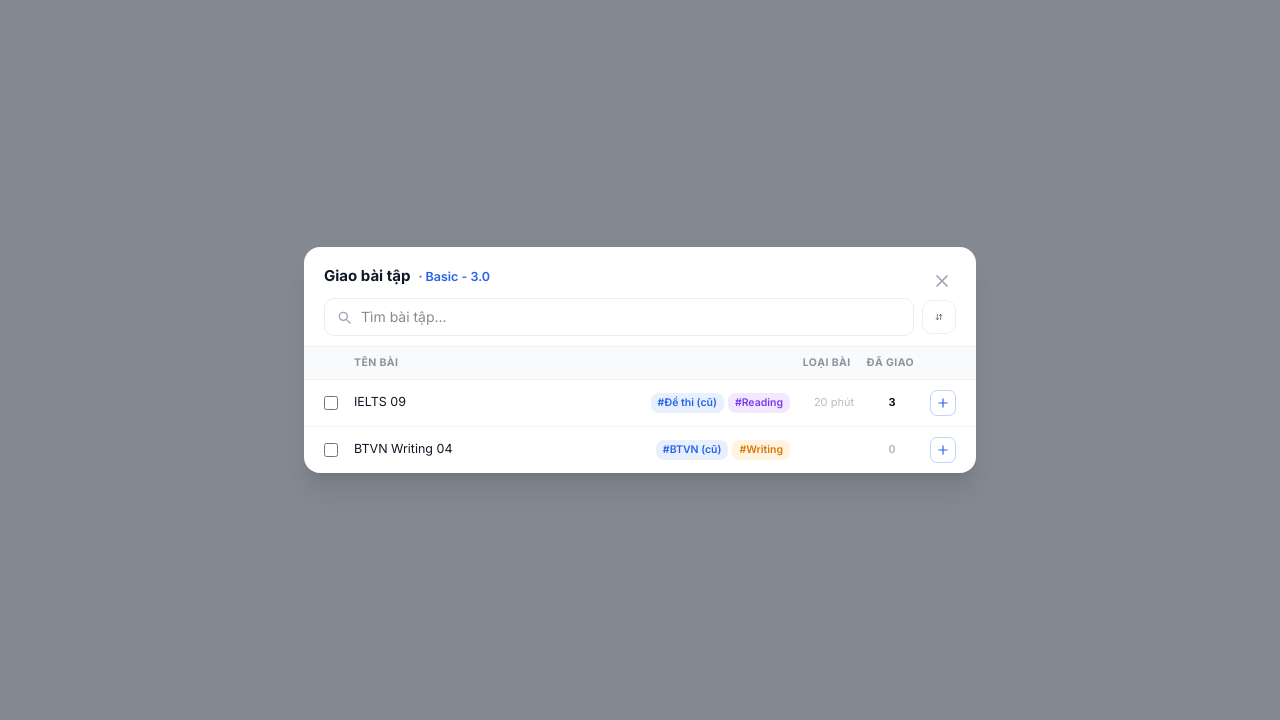
Scenario: QuickAssignDialog › assigns every ticked set at once, then clears the ticks
Expected: the element with test id "quick-assign-row-s1" is shown, [304,380,976,427]
Click the checkbox named "Chọn IELTS 09".
click(331, 403)  # box [324,396,338,410]
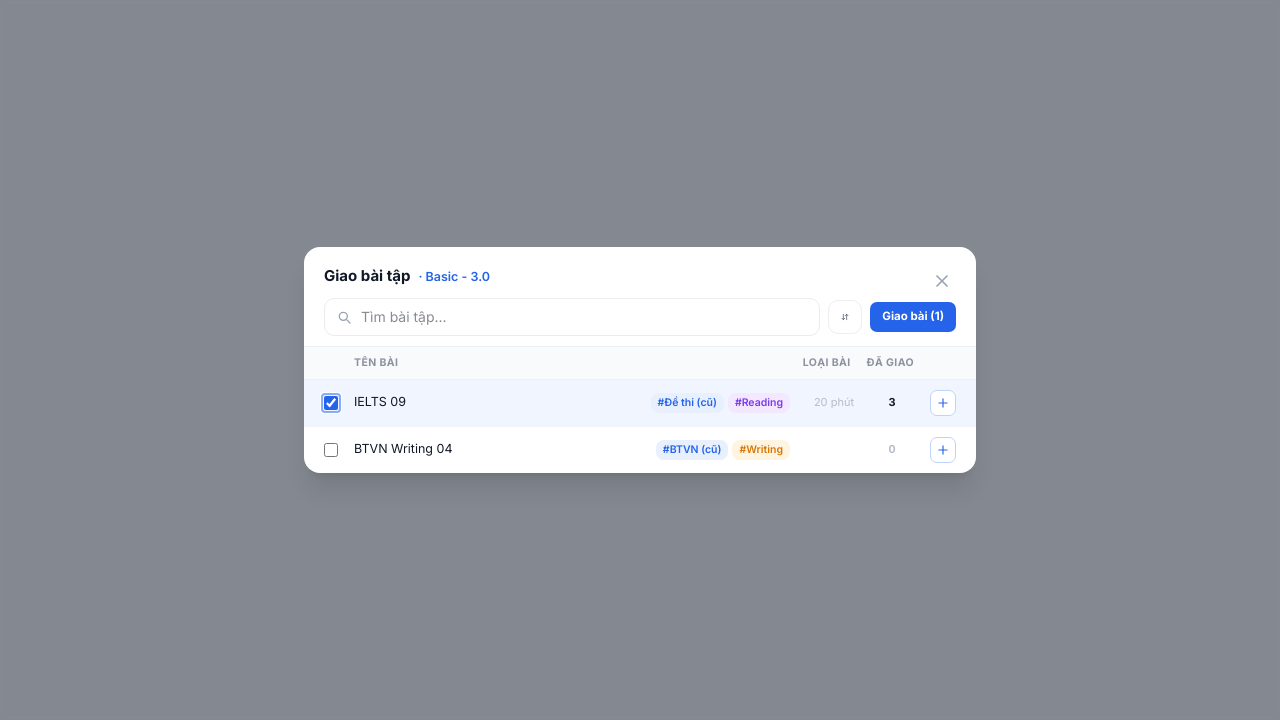
Click the checkbox named "Chọn BTVN Writing 04".
click(331, 450)  # box [324,443,338,457]
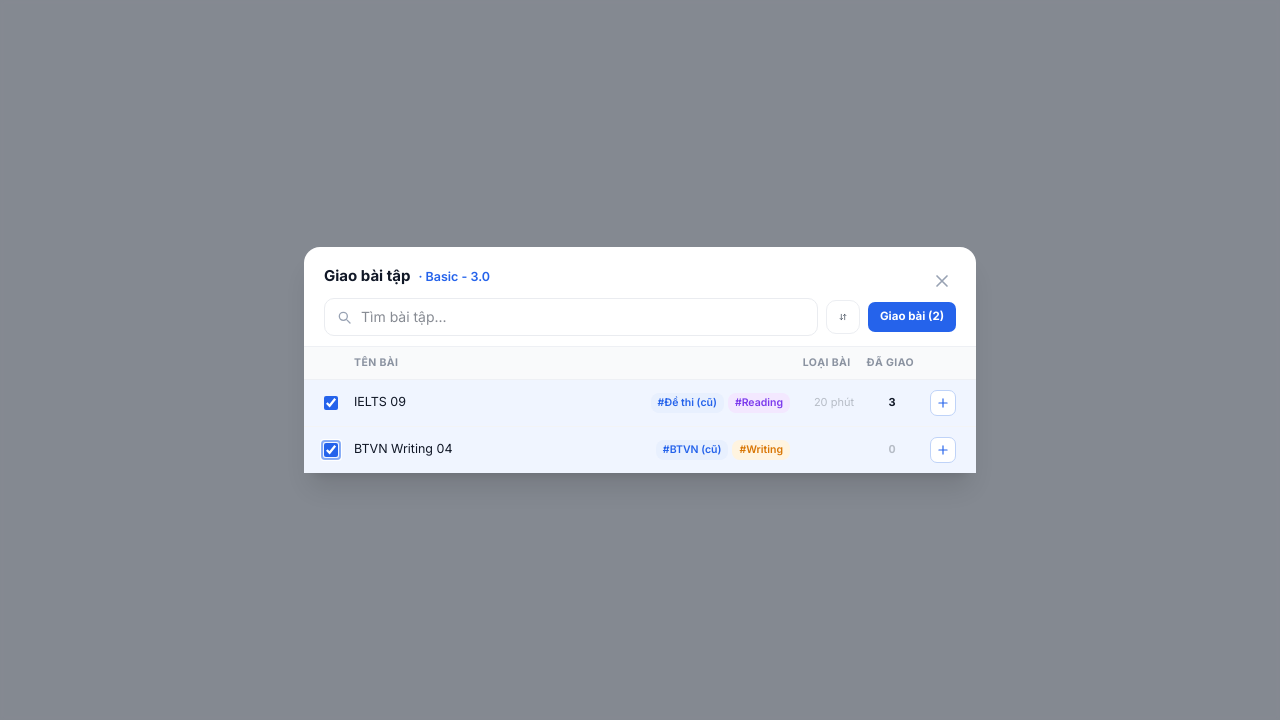
Now the button with test id "quick-assign-bulk" reads "Giao bài (2)"
Click the button with test id "quick-assign-bulk".
click(912, 317)  # box [868,302,956,332]
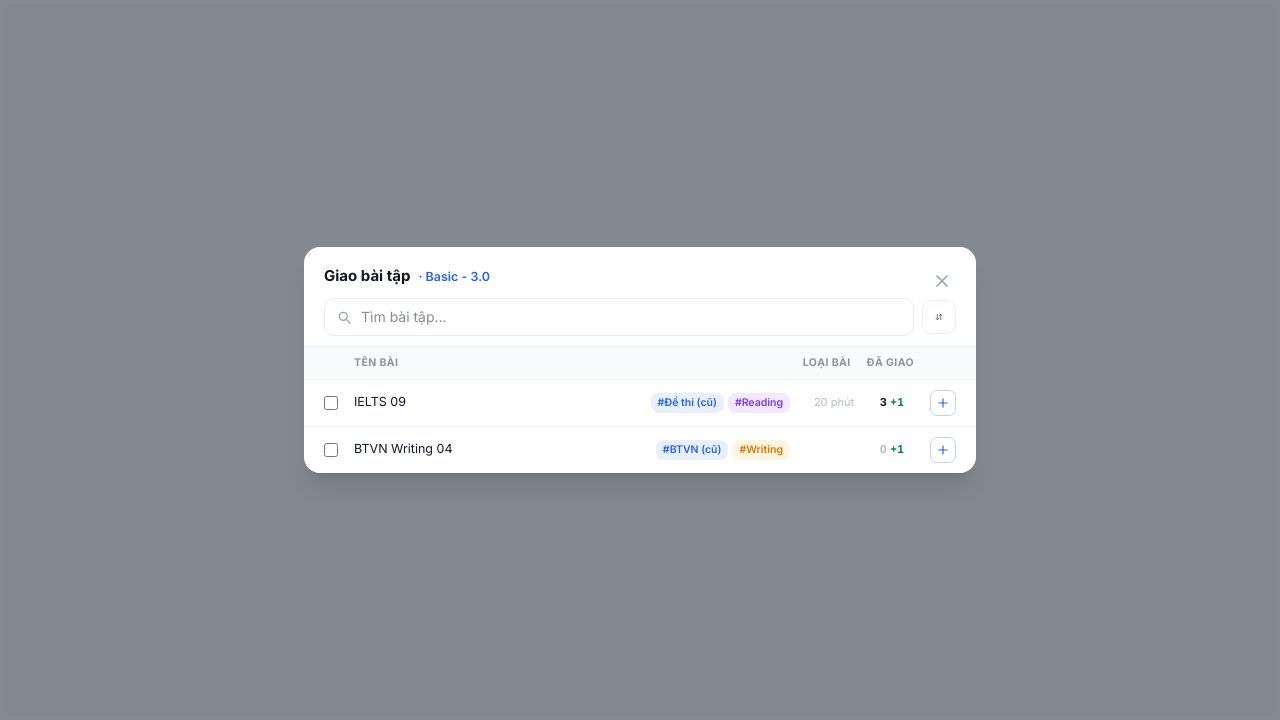
Now the button with test id "quick-assign-bulk" is gone
